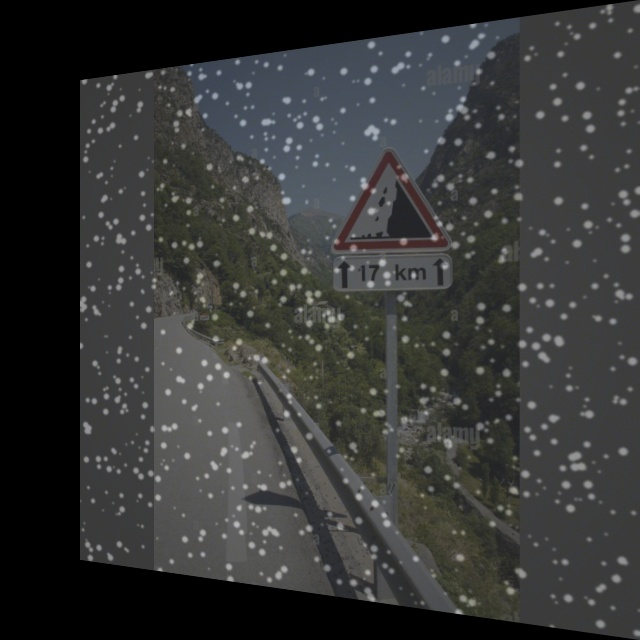Falling_Rocks: (333, 143, 447, 253)
